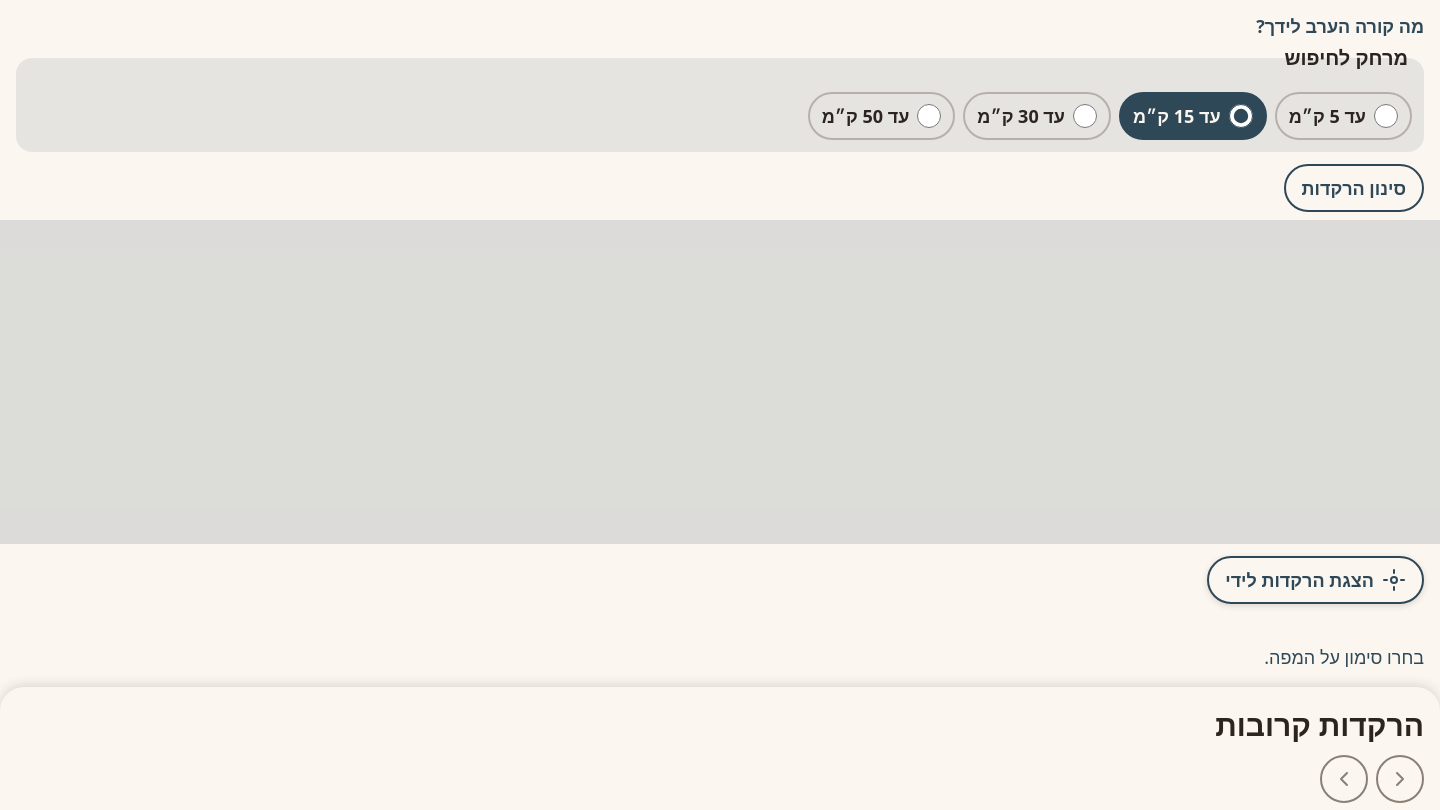
Test: NearbyDances after a successful locate › moves the ring list to the located region, not just the pins
Click the button "הצגת הרקדות לידי" at {"x": 1316, "y": 580}, box left=1207, top=556, right=1424, bottom=604
(page scrolled)
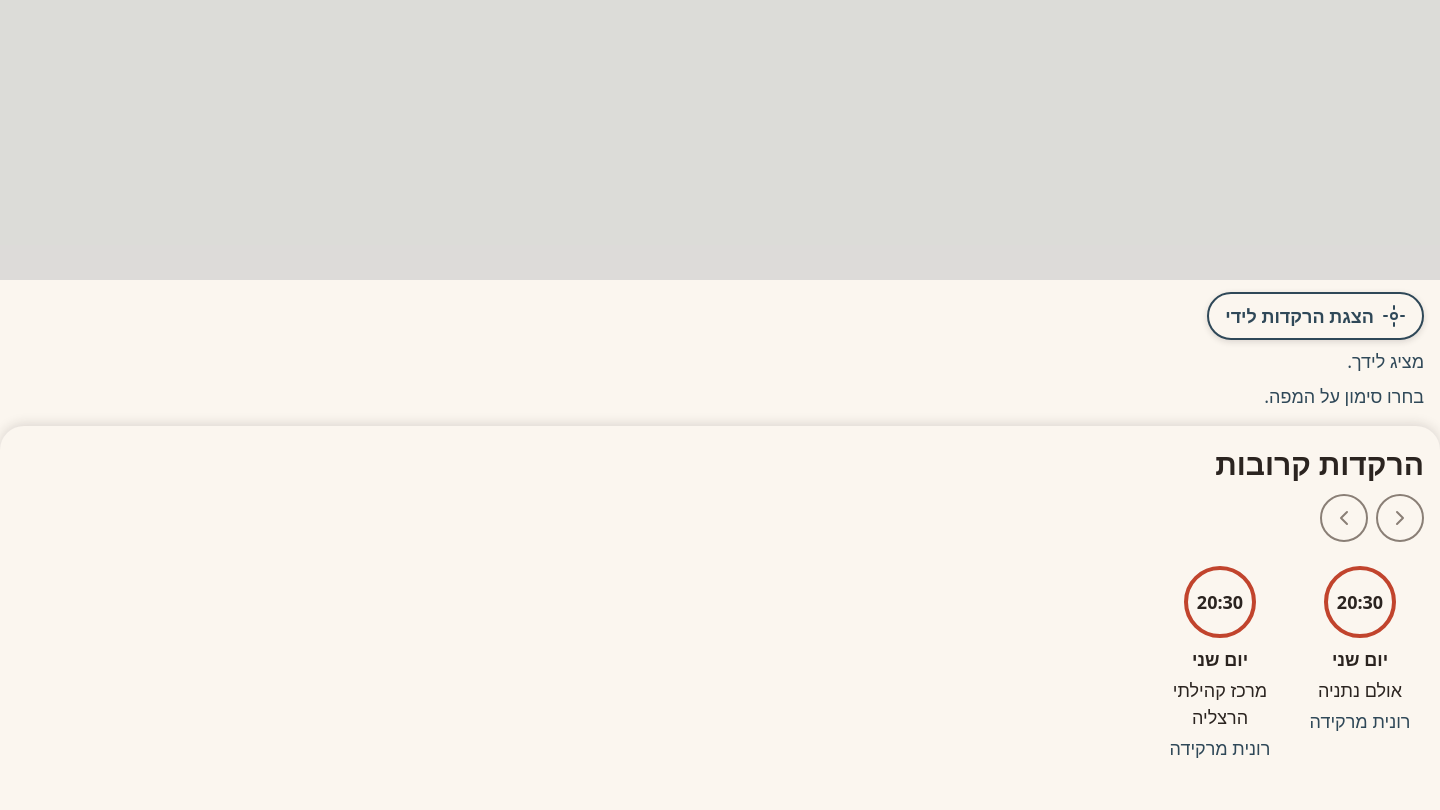
Expected: the text "מציג לידך." is shown, left=1347, top=349, right=1424, bottom=373
Expected: the list named "רשימת ההרקדות הקרובות" shows "אולם נתניה", left=1318, top=678, right=1402, bottom=702
Expected: the list named "רשימת ההרקדות הקרובות" shows "מרכז קהילתי הרצליה", left=1173, top=678, right=1267, bottom=729
